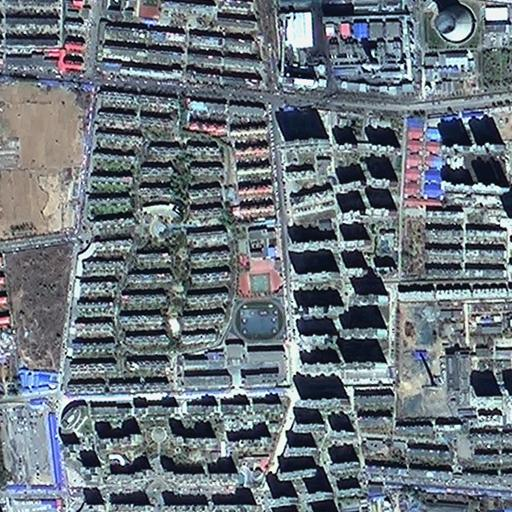school: (226, 297, 290, 390), (233, 216, 282, 299)
